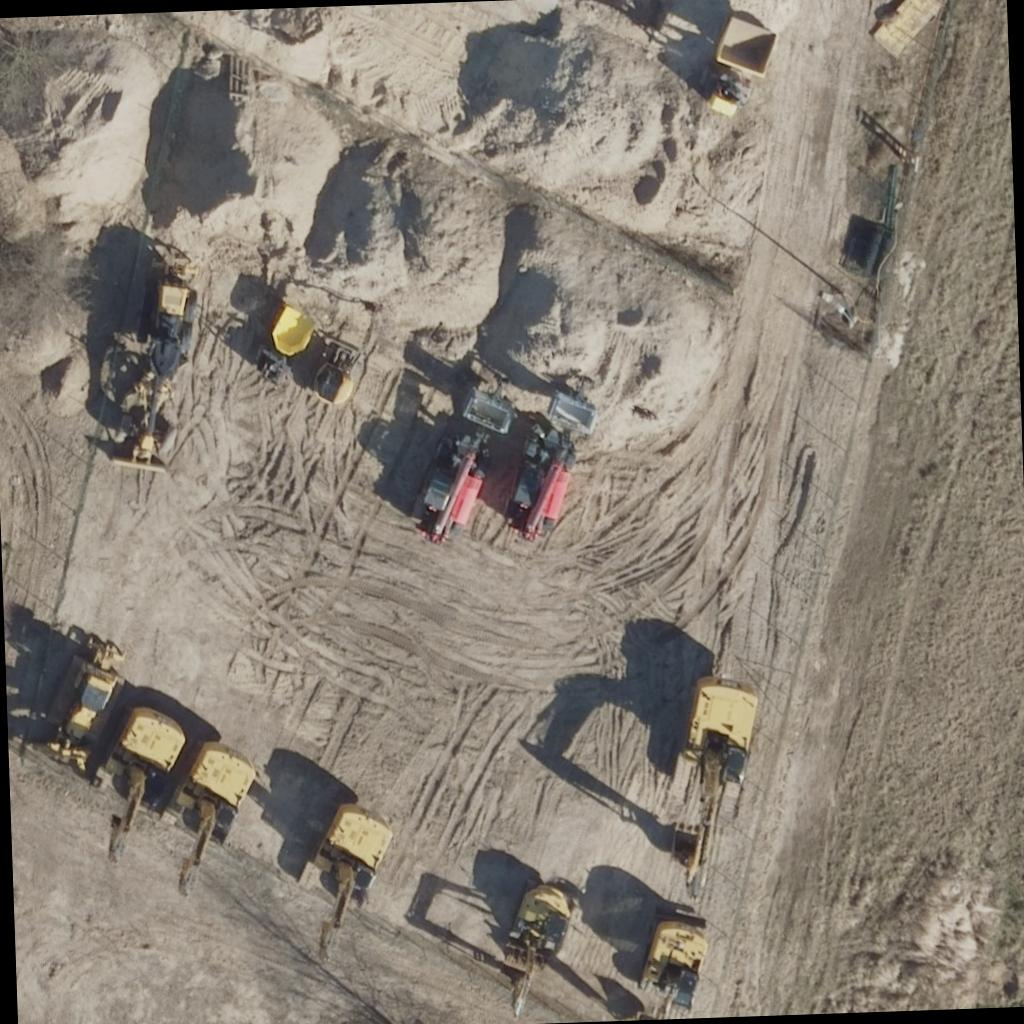koparka: (658, 674, 768, 908), (98, 265, 198, 480), (408, 386, 520, 546), (516, 382, 618, 550), (182, 718, 266, 900), (310, 794, 400, 960), (104, 694, 188, 860), (36, 622, 126, 773), (252, 300, 372, 412), (504, 880, 582, 1022), (626, 913, 719, 1020), (698, 12, 782, 120)
